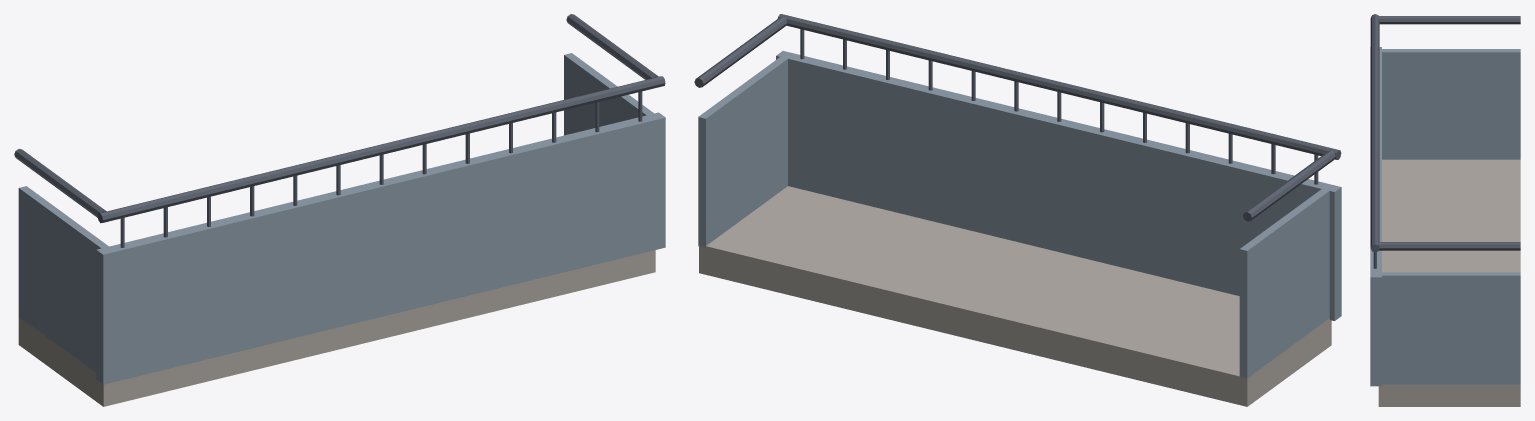
Rendered from SM_Balcony_Compact_320.fbx.
The picture shows the model from 3 angles, left to right: view 1: azimuth 30°, elevation 25°; view 2: azimuth 150°, elevation 25°; view 3: azimuth 270°, elevation 25°; orthographic projection. The views are drawn at different scales.
Visible parts, largest first — view 1: SM_Balcony_Compact_320; view 2: SM_Balcony_Compact_320; view 3: SM_Balcony_Compact_320.
Part boxes in pixels (x1,y1,x2,y2): SM_Balcony_Compact_320: (14, 14, 665, 406); SM_Balcony_Compact_320: (694, 14, 1341, 406); SM_Balcony_Compact_320: (1370, 14, 1520, 406).
Size of the model in its own units: 3.26 by 0.9 by 1.09.
